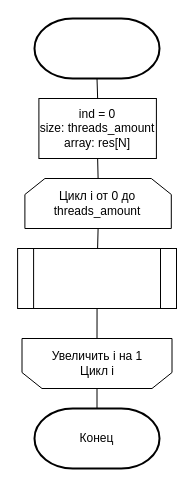
This 194x486 diagram has some shape labels left out. Here are the shapes that lost their labels. From the top down, the box of each, then its label:
(33, 17, 160, 79): Начало
(17, 248, 176, 308): parallel_subfunction (numbers, ind, res)
